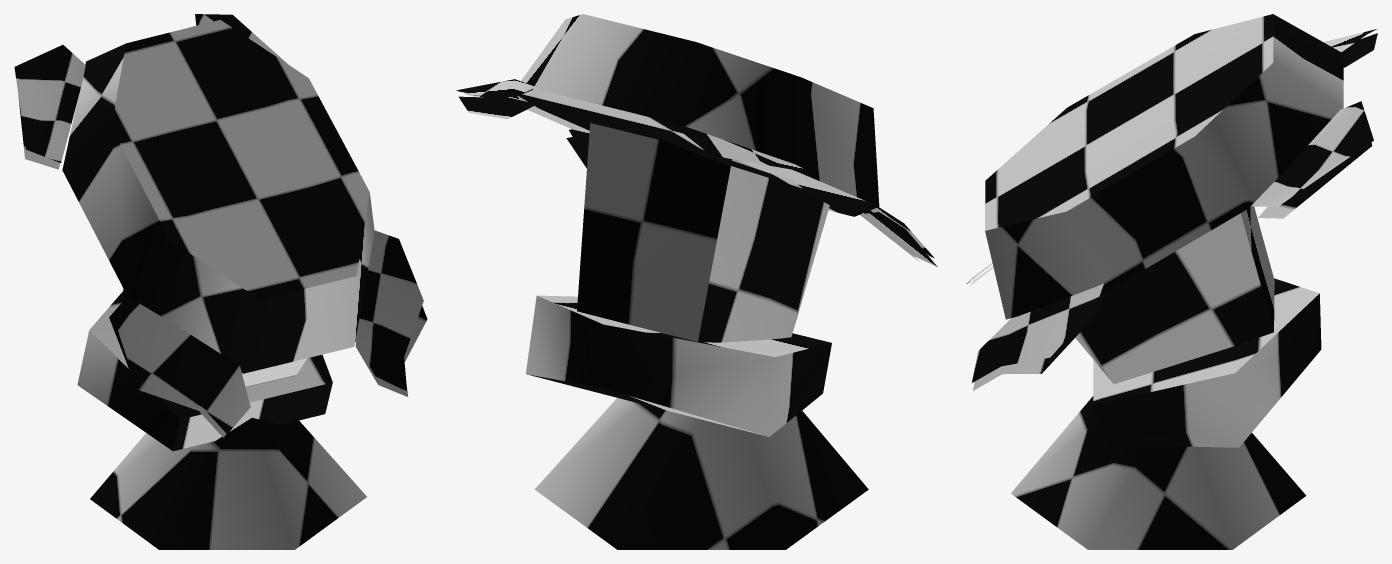
Rendered from cbs_module_repair.obj.
3 views of the same model, side by side, from view 1: azimuth 30°, elevation 25°; view 2: azimuth 150°, elevation 25°; view 3: azimuth 270°, elevation 25° (orthographic). The views are drawn at different scales.
Visible parts, largest first — view 1: cbs_module_repair; view 2: cbs_module_repair; view 3: cbs_module_repair.
Part boxes in pixels (box(x1,y1,x2,y2)): cbs_module_repair: box(14, 14, 427, 549); cbs_module_repair: box(456, 14, 937, 549); cbs_module_repair: box(967, 14, 1377, 549).
Bounding box in the file's own units: 89.97 × 127 × 104.
1 material, 1 textured.
